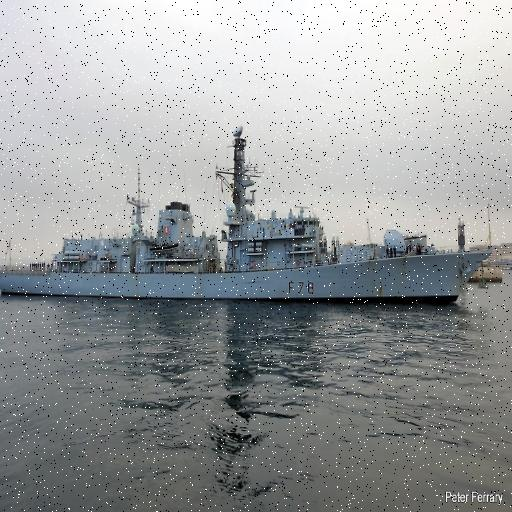Fragata: (1, 123, 495, 312)
